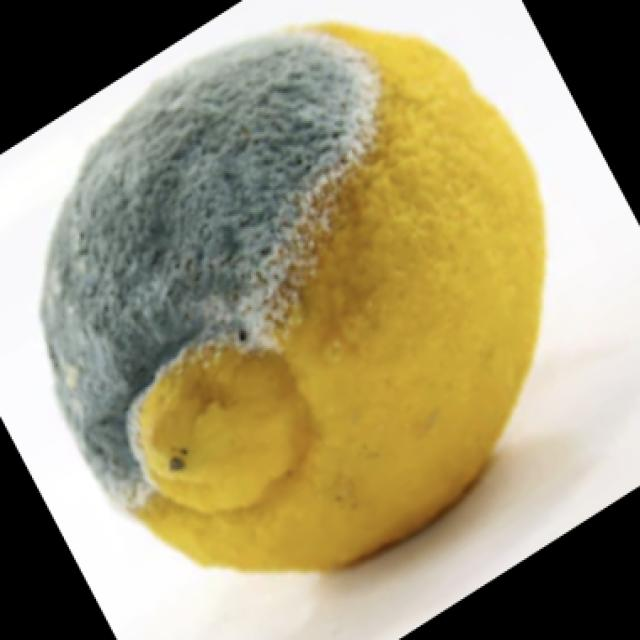sangat_busuk: (40, 24, 553, 569)
